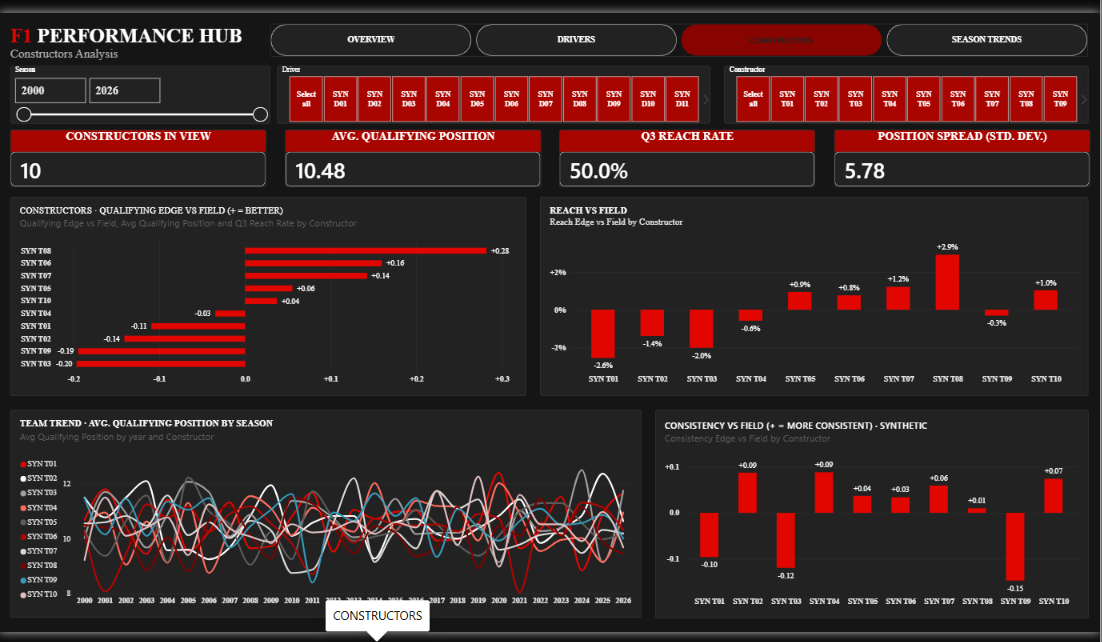

Layout of this report page (visuals, bound fields, positions):
{"tool":"powerbi","page":{"name":"CONSTRUCTORS","canvas":[1920,1080],"ordinal":2},"visuals":[{"type":"textbox","box":[19.2,19.2,418.6,73.3],"z":10},{"type":"pageNavigator","box":[472.7,19.2,1426.7,57.6],"z":30},{"type":"slicer","fields":{"Values":["DimSeason.year"]},"box":[19.2,92.4,453.5,101.2],"z":40},{"type":"slicer","fields":{"Values":["DimDriver.Driver"]},"box":[484.9,92.4,755.2,101.2],"z":50},{"type":"slicer","fields":{"Values":["DimConstructor.Constructor"]},"box":[1264.5,92.4,634.9,101.2],"z":60},{"type":"cardVisual","title":"CONSTRUCTORS IN VIEW","fields":{"Data":["Qualifying.Synthetic Constructors"]},"box":[19.2,204.1,446,100],"z":80},{"type":"cardVisual","title":"AVG. QUALIFYING POSITION","fields":{"Data":["Qualifying.Avg Qualifying Position"]},"box":[498.8,204.1,446,100],"z":100},{"type":"cardVisual","title":"Q3 REACH RATE","fields":{"Data":["Qualifying.Q3 Reach Rate"]},"box":[976.7,204.1,446,100],"z":120},{"type":"cardVisual","title":"POSITION SPREAD (STD. DEV.)","fields":{"Data":["Qualifying.Qualifying Position StdDev"]},"box":[1456.4,204.1,446,100],"z":140},{"type":"clusteredBarChart","title":"CONSTRUCTORS · QUALIFYING EDGE VS FIELD (+ = BETTER)","fields":{"Category":["DimConstructor.Constructor"],"Y":["Qualifying.Qualifying Edge vs Field"]},"box":[19.2,320.9,900,347.1],"z":150},{"type":"clusteredColumnChart","title":"REACH VS FIELD","fields":{"Category":["DimConstructor.Constructor"],"Y":["Qualifying.Q3 Reach Edge vs Field"]},"box":[943.6,320.9,955.8,347.1],"z":160},{"type":"lineChart","title":"TEAM TREND · AVG. QUALIFYING POSITION BY SEASON","fields":{"Category":["DimSeason.year"],"Series":["DimConstructor.Constructor"],"Y":["Qualifying.Avg Qualifying Position"]},"box":[19.2,692.4,1100.6,362.8],"z":170},{"type":"clusteredColumnChart","title":"CONSISTENCY VS FIELD (+ = MORE CONSISTENT) · SYNTHETIC","fields":{"Category":["DimConstructor.Constructor"],"Y":["Qualifying.Consistency Edge vs Field"]},"box":[1144,692,756,364],"z":180}]}

Visuals, with their boxes on the page's 1920x1080 design canvas (x1, y1, x2, y2). These are canvas units, not pixel positions in the 1102x642 screenshot, which may show the page scaled, cropped or inside an application window:
textbox: rect(19, 19, 438, 92)
pageNavigator: rect(473, 19, 1899, 77)
slicer - DimSeason.year: rect(19, 92, 473, 194)
slicer - DimDriver.Driver: rect(485, 92, 1240, 194)
slicer - DimConstructor.Constructor: rect(1264, 92, 1899, 194)
"CONSTRUCTORS IN VIEW" cardVisual: rect(19, 204, 465, 304)
"AVG. QUALIFYING POSITION" cardVisual: rect(499, 204, 945, 304)
"Q3 REACH RATE" cardVisual: rect(977, 204, 1423, 304)
"POSITION SPREAD (STD. DEV.)" cardVisual: rect(1456, 204, 1902, 304)
"CONSTRUCTORS · QUALIFYING EDGE VS FIELD (+ = BETTER)" clusteredBarChart: rect(19, 321, 919, 668)
"REACH VS FIELD" clusteredColumnChart: rect(944, 321, 1899, 668)
"TEAM TREND · AVG. QUALIFYING POSITION BY SEASON" lineChart: rect(19, 692, 1120, 1055)
"CONSISTENCY VS FIELD (+ = MORE CONSISTENT) · SYNTHETIC" clusteredColumnChart: rect(1144, 692, 1900, 1056)
